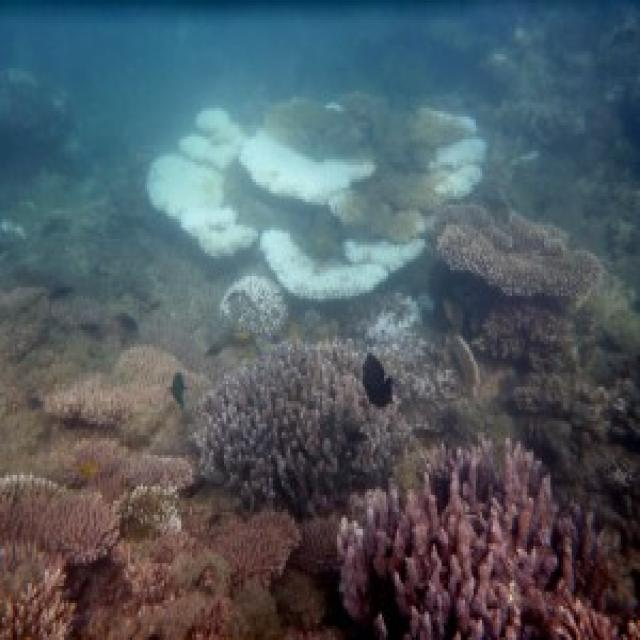Bleached: (261, 231, 421, 300), (240, 129, 374, 211), (148, 155, 257, 254), (433, 122, 483, 203), (180, 109, 246, 169), (347, 240, 423, 271)
Healthy: (340, 439, 618, 638), (71, 453, 298, 635), (195, 345, 411, 516), (434, 206, 600, 371), (438, 206, 603, 300), (1, 476, 76, 638), (1, 476, 118, 564), (1, 567, 71, 638)
